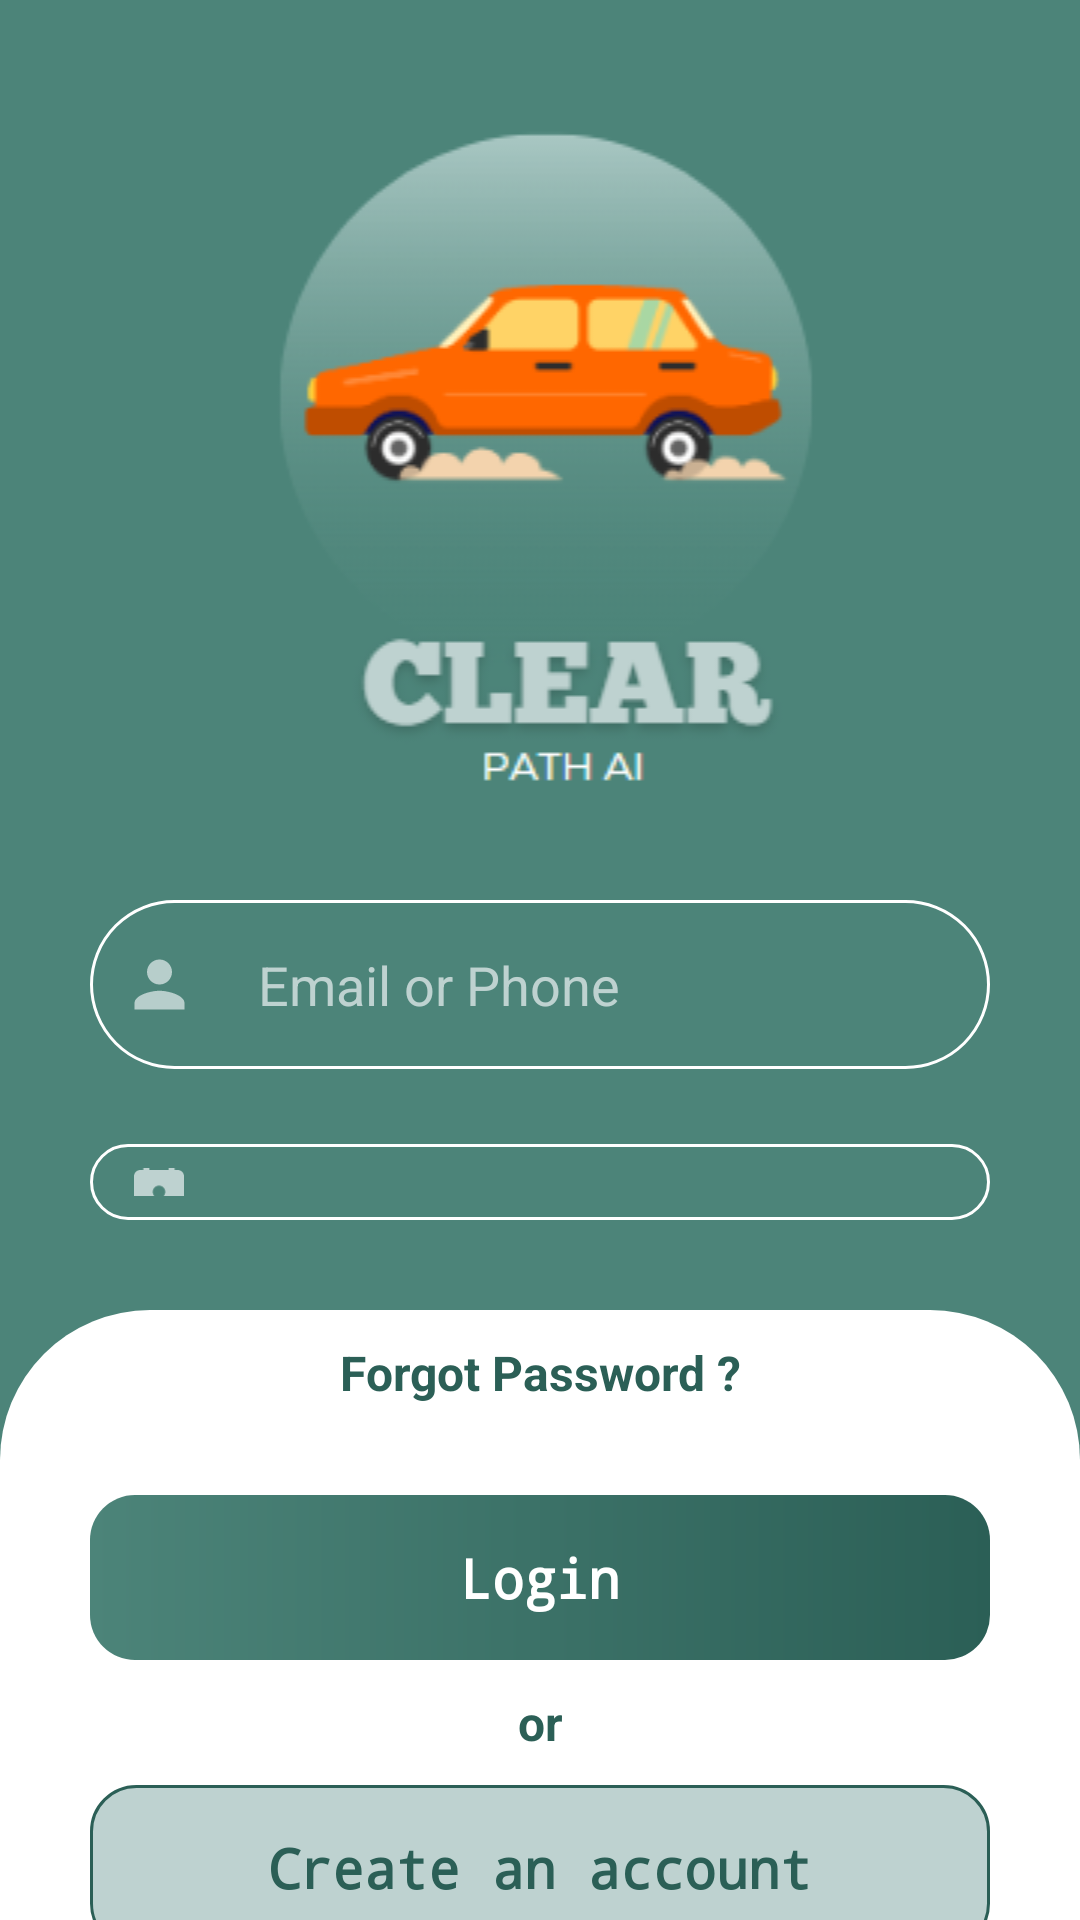

Screen size 1080px×1920px. Icon name, then its box in pixels as bbox=[x1, y1, x2, y2]:
person: bbox=[134, 959, 185, 1010]
